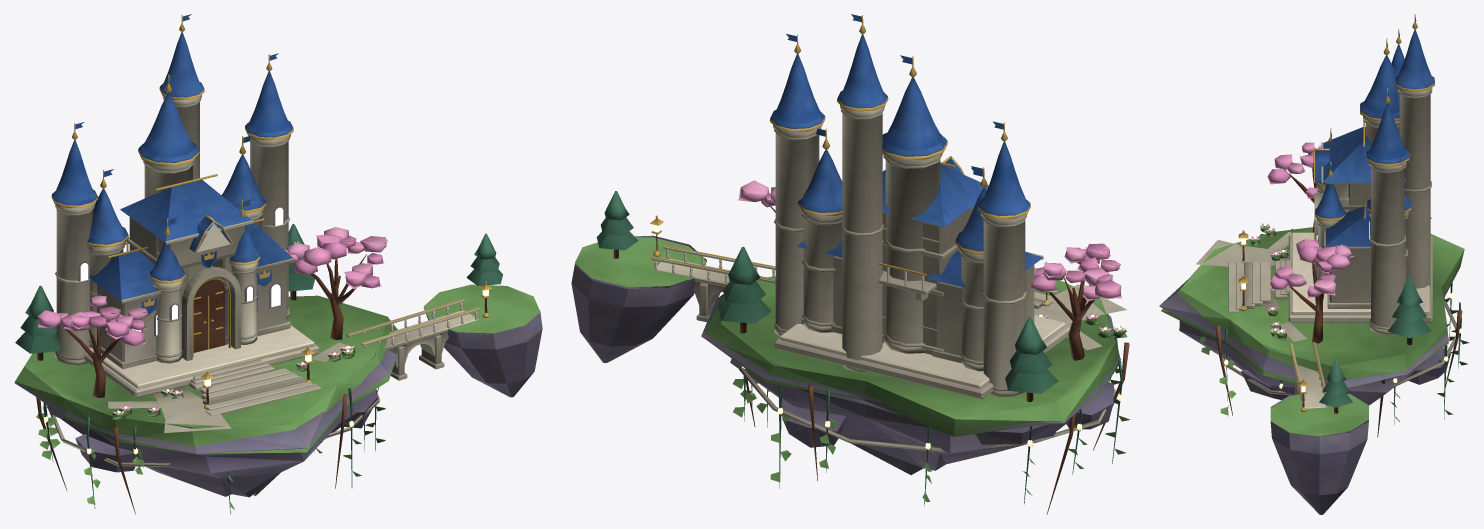
The model's file is royal-island-citadel-v4-low.glb.
3 views of the same model, side by side, from view 1: azimuth 30°, elevation 25°; view 2: azimuth 150°, elevation 25°; view 3: azimuth 270°, elevation 25° (orthographic). The views are drawn at different scales.
Parts seen in each view (by area): view 1: royal-island-citadel-v4; view 2: royal-island-citadel-v4; view 3: royal-island-citadel-v4.
Part boxes in pixels (x1,y1,x2,y2): royal-island-citadel-v4: [14, 14, 542, 514]; royal-island-citadel-v4: [571, 14, 1130, 514]; royal-island-citadel-v4: [1159, 14, 1469, 514].
Size of the model in its own units: 18.94 by 16.46 by 11.42.
10 materials, 10 textured.
